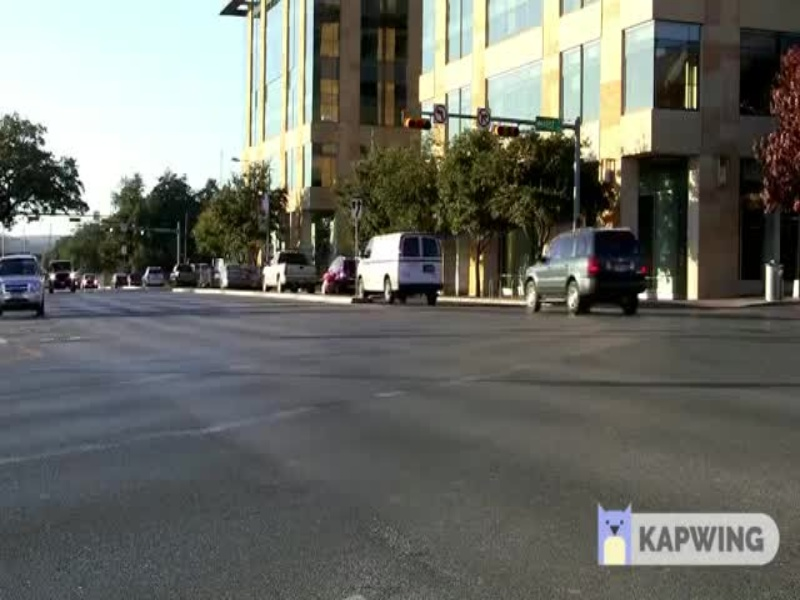car: (498, 224, 656, 320), (346, 218, 451, 312), (1, 252, 53, 319)
